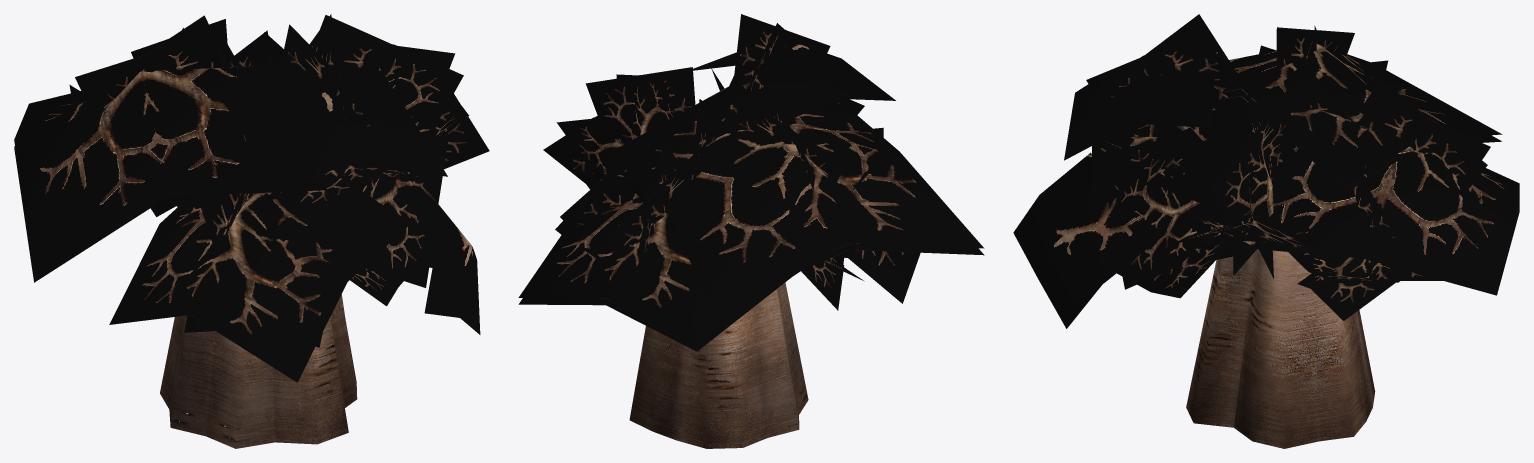
File: flora_tree_baobab_4_dead_v2.glb
3 views of the same model, side by side, from view 1: azimuth 30°, elevation 25°; view 2: azimuth 150°, elevation 25°; view 3: azimuth 270°, elevation 25° (orthographic). The views are drawn at different scales.
Parts seen in each view (by area): view 1: flora_tree_baobab_4_dead_v2_part1, flora_tree_baobab_4_dead_v2_part0; view 2: flora_tree_baobab_4_dead_v2_part1, flora_tree_baobab_4_dead_v2_part0; view 3: flora_tree_baobab_4_dead_v2_part1, flora_tree_baobab_4_dead_v2_part0.
Part boxes in pixels (x1=…): flora_tree_baobab_4_dead_v2_part1: x1=14, y1=14, x2=489, y2=382; flora_tree_baobab_4_dead_v2_part0: x1=160, y1=294, x2=357, y2=448; flora_tree_baobab_4_dead_v2_part1: x1=518, y1=14, x2=984, y2=351; flora_tree_baobab_4_dead_v2_part0: x1=629, y1=282, x2=808, y2=448; flora_tree_baobab_4_dead_v2_part1: x1=1013, y1=14, x2=1519, y2=328; flora_tree_baobab_4_dead_v2_part0: x1=1186, y1=249, x2=1375, y2=448.
Size of the model in its own units: 29.86 by 25.81 by 30.84.
Materials: 2 (2 with a texture image).
